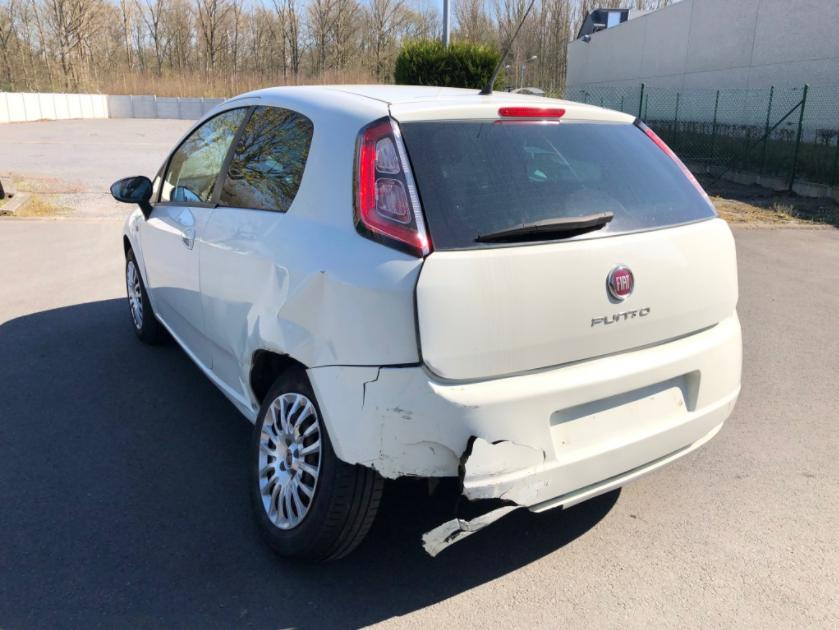Back-bumper: (306, 307, 742, 555)
Back-wheel: (248, 361, 384, 562)
Back-window: (217, 105, 314, 213)
Back-windshield: (400, 118, 719, 251)
Fender: (122, 203, 158, 313)
Front-door: (140, 97, 260, 370)
Front-wheel: (126, 247, 173, 344)
Front-window: (160, 106, 250, 203), (149, 164, 165, 202)
Mirror: (110, 175, 154, 221)
Quarter-panel: (199, 206, 423, 415)
Rocker-panel: (154, 313, 257, 425)
Roof: (288, 84, 593, 106)
Tail-light: (352, 117, 433, 257), (632, 117, 719, 216)
Trunk: (389, 100, 738, 380), (400, 118, 718, 251)
